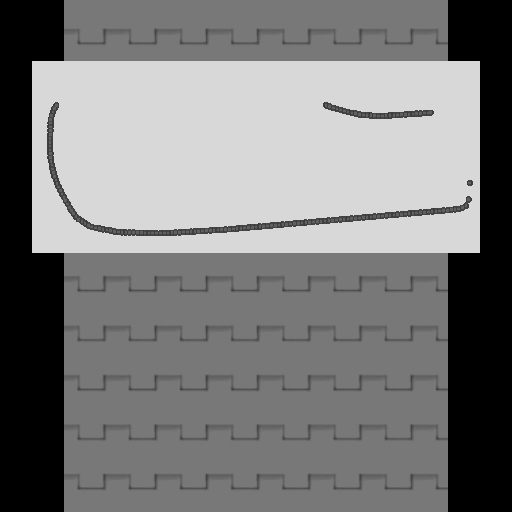Defect: (52, 87, 325, 117)
